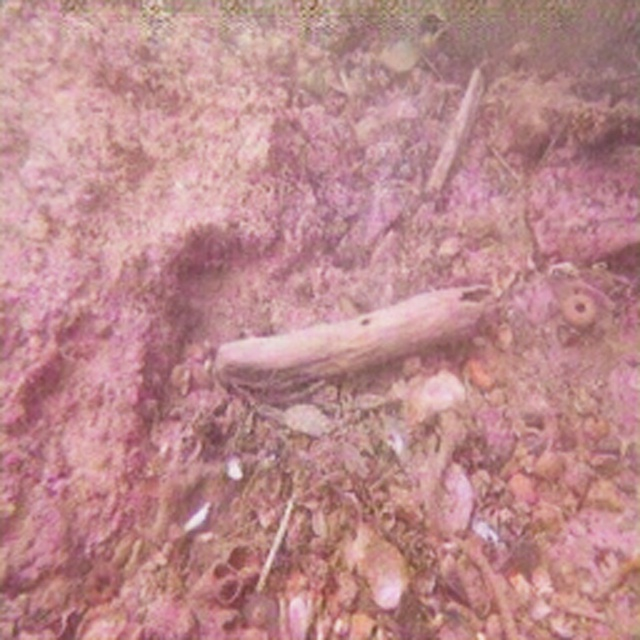mine: (384, 0, 640, 78)
